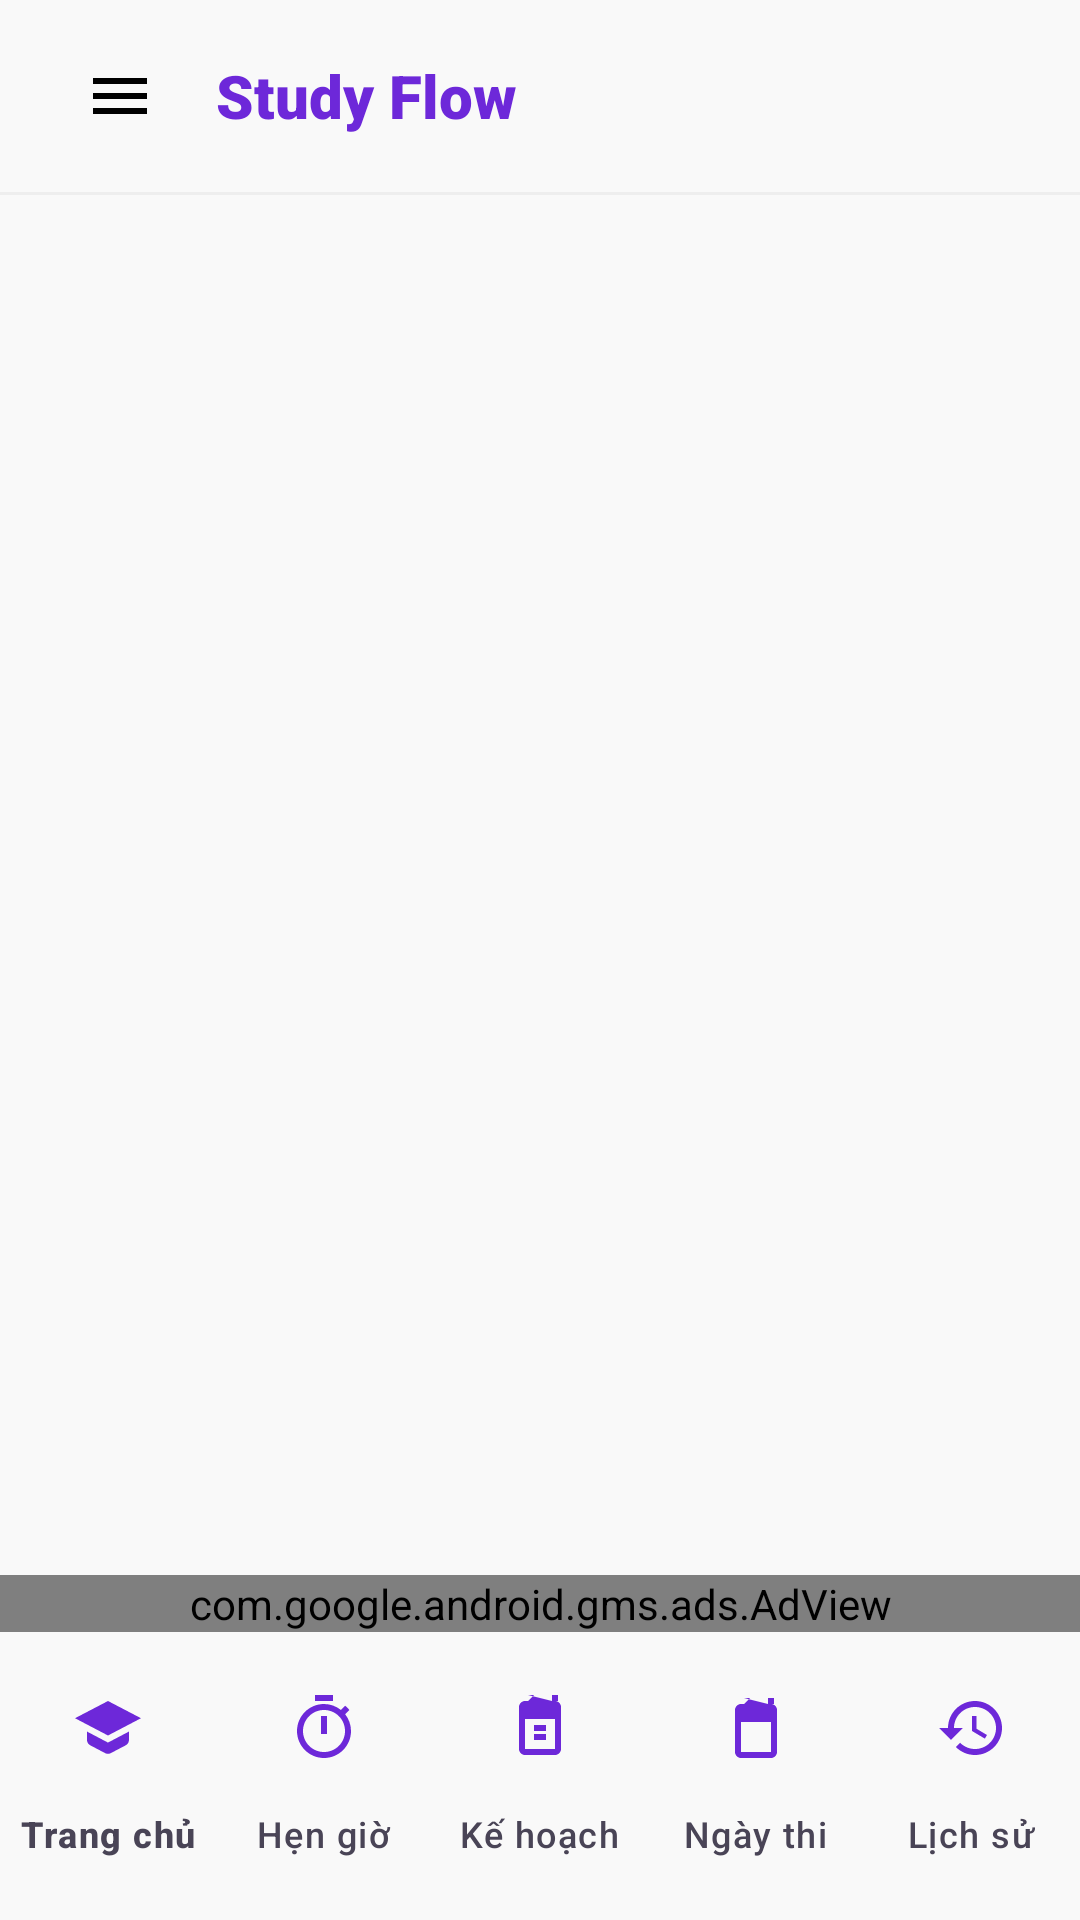

Named icons in this screenshot (1080x1920) and their centers, point (x, y):
Menu: point (120, 96)
